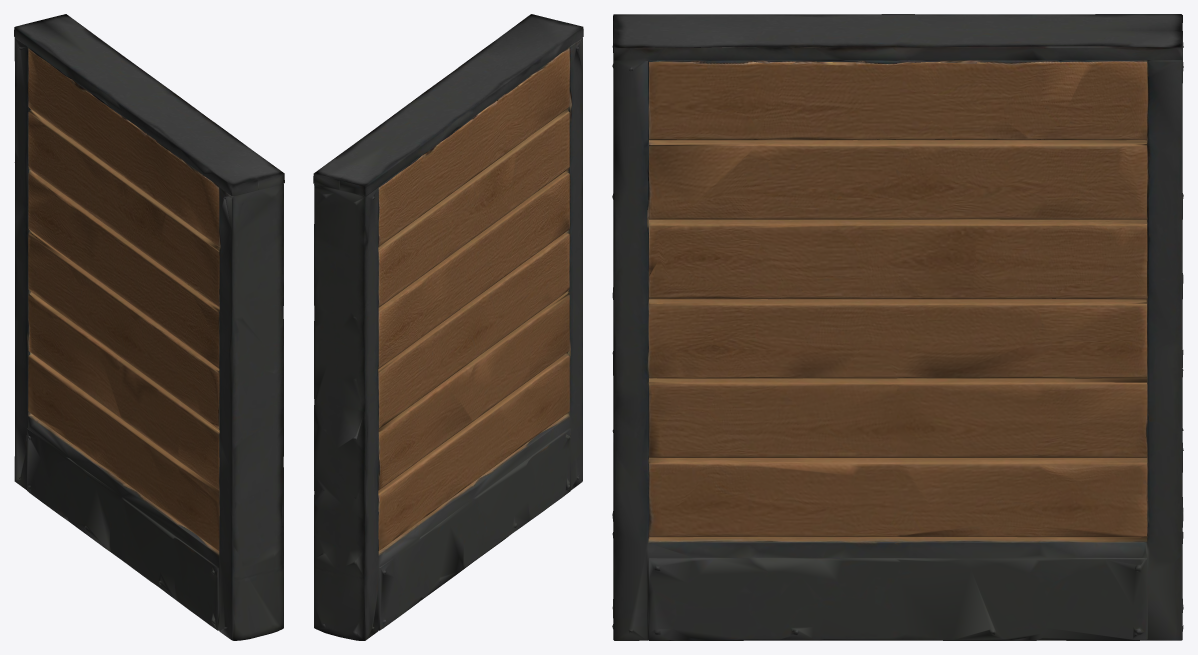
File: pnl_slat.glb
3 renders of one model, left to right at view 1: azimuth 30°, elevation 25°; view 2: azimuth 150°, elevation 25°; view 3: azimuth 270°, elevation 25°, orthographic. The views are drawn at different scales.
Parts seen in each view (by area): view 1: tripo_node_95089fe0-1304-4773-88dd-1d3d346eb88b; view 2: tripo_node_95089fe0-1304-4773-88dd-1d3d346eb88b; view 3: tripo_node_95089fe0-1304-4773-88dd-1d3d346eb88b.
Part boxes in pixels (left/top/right/bottom): tripo_node_95089fe0-1304-4773-88dd-1d3d346eb88b: left=14, top=14, right=284, bottom=640; tripo_node_95089fe0-1304-4773-88dd-1d3d346eb88b: left=313, top=14, right=583, bottom=640; tripo_node_95089fe0-1304-4773-88dd-1d3d346eb88b: left=612, top=14, right=1183, bottom=640.
Size of the model in its own units: 0.2419 by 1.8 by 1.56.
1 material, 1 textured.
